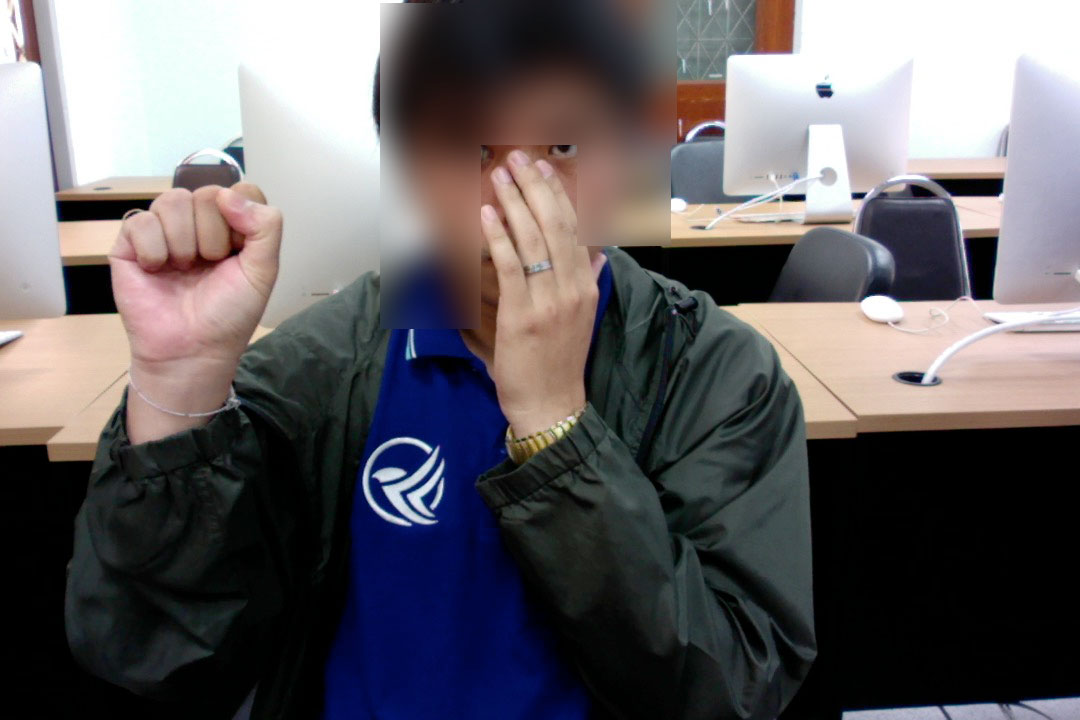sor: (102, 176, 287, 397)
